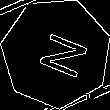N_W: (25, 25, 86, 81)
